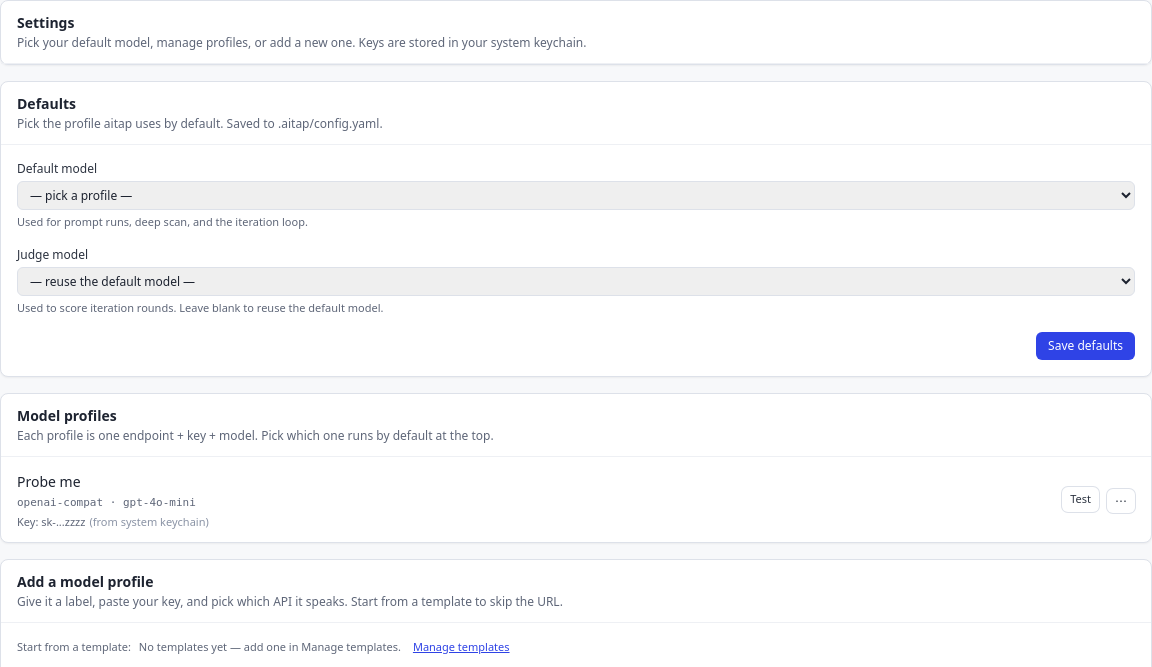
Test: Settings page — multi-provider profile UI › Test button surfaces the API's plain-language detail
Note: Pick the row's Test button (the DefaultsCard also has a Save).
Click the button "Test". click: (1081, 500)
box: [1062,487,1099,512]
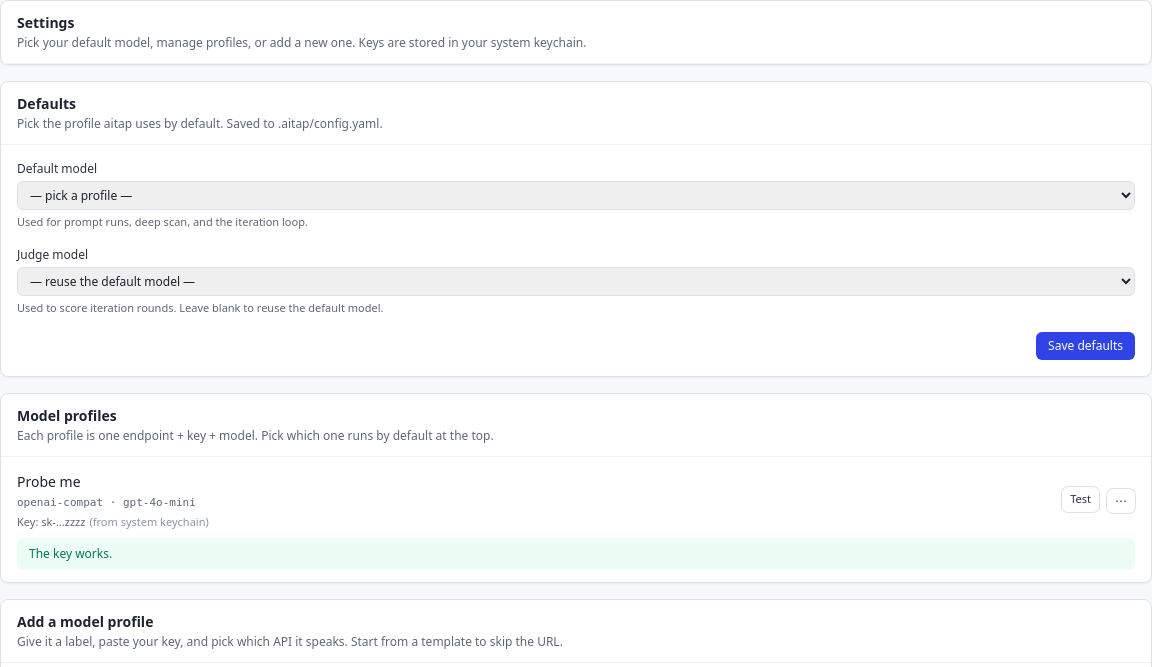
Expected: the text "The key works." is shown, [17,538,1135,570]
